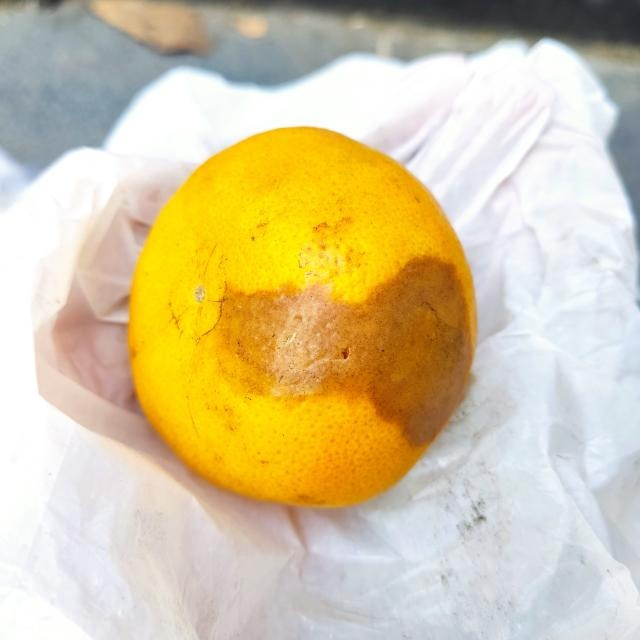agrume: (124, 125, 481, 510)
